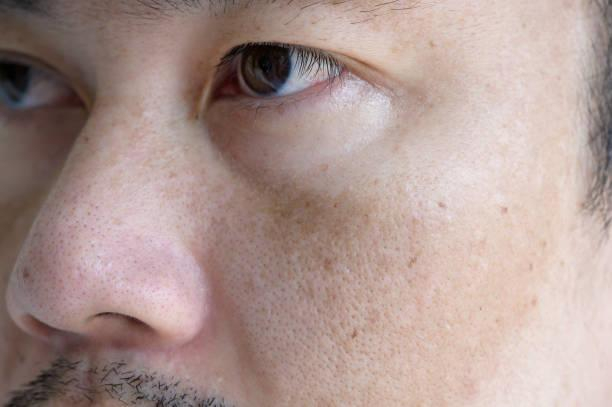Dry-Skin: (282, 164, 539, 319), (87, 127, 227, 337), (264, 303, 491, 407), (436, 33, 521, 116), (540, 316, 604, 399)
